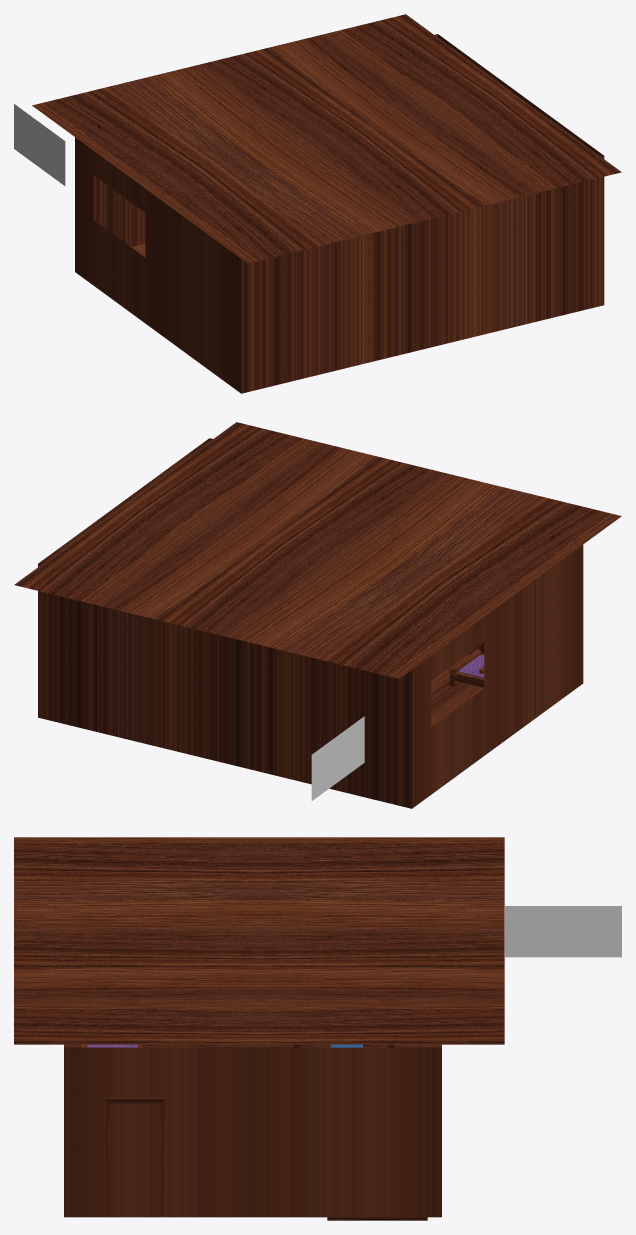
The picture shows the model from 3 angles, top to bottom: view 1: azimuth 30°, elevation 25°; view 2: azimuth 150°, elevation 25°; view 3: azimuth 270°, elevation 25°; orthographic projection. The views are drawn at different scales.
Parts seen in each view (by area): view 1: Plane, trannha, kinhcuaso; view 2: Plane, trannha, kinhcuaso, bed; view 3: Plane, trannha, kinhcuaso, basic_door.
Boxes of the visible parts, left/top/right/bottom form: Plane: left=32, top=14, right=621, bottom=263; trannha: left=75, top=34, right=604, bottom=393; kinhcuaso: left=14, top=104, right=65, bottom=185; Plane: left=14, top=422, right=621, bottom=678; trannha: left=38, top=438, right=583, bottom=808; kinhcuaso: left=311, top=716, right=364, bottom=800; bed: left=449, top=649, right=484, bottom=687; Plane: left=14, top=837, right=504, bottom=1044; trannha: left=64, top=1044, right=441, bottom=1217; kinhcuaso: left=505, top=906, right=621, bottom=957; basic_door: left=103, top=1098, right=165, bottom=1215.
Size of the model in its own units: 159 by 61.63 by 194.
Materials: 10 (5 with a texture image).
